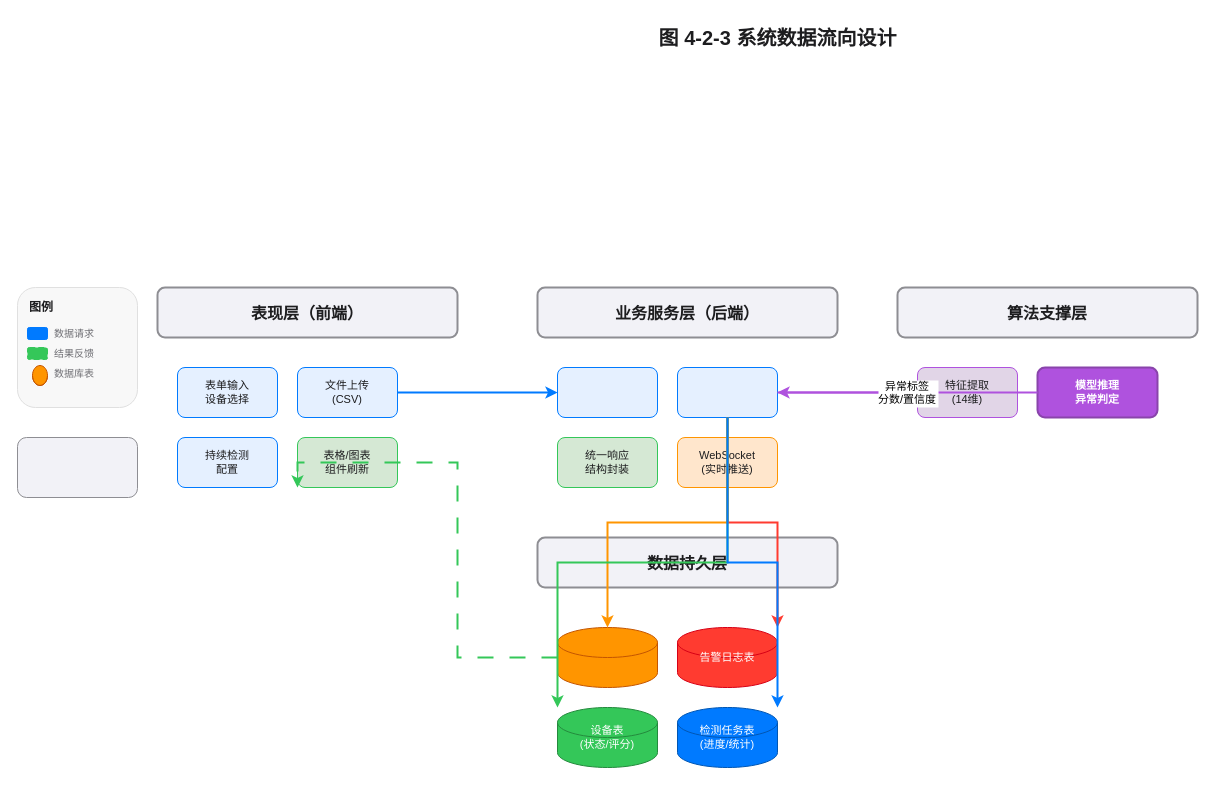
This 1216x785 diagram has some shape labels left out. Here are the shapes that lost their labels. From the top down, the centre of each, then its label:
point 607,392: 序列化器 (参数校验)
point 727,392: 业务服务层 (逻辑处理)
point 77,467: 系统状态变更可追踪 结果展示可复用 统计分析可回溯
point 607,657: 检测记录表
